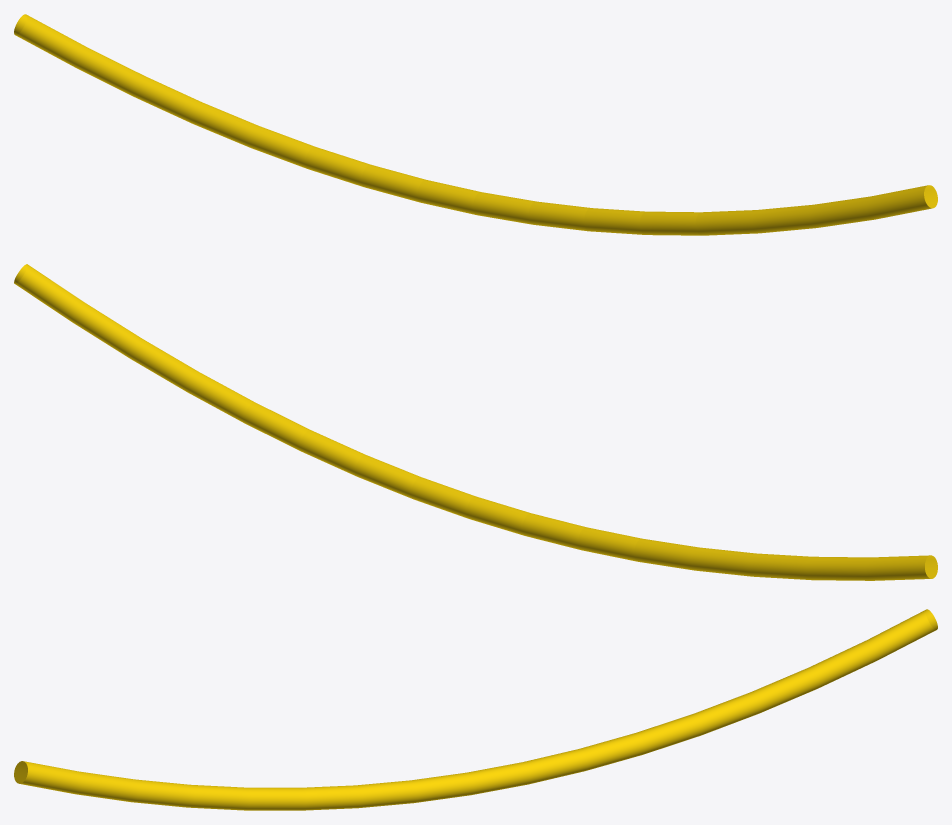
File: Event_421115418_track_204.fbx
The picture shows the model from 3 angles, top to bottom: view 1: azimuth 30°, elevation 25°; view 2: azimuth 210°, elevation 25°; view 3: azimuth 270°, elevation 25°; orthographic projection. The views are drawn at different scales.
Visible parts, largest first — view 1: Model; view 2: Model; view 3: Model.
Part boxes in pixels (<box>): Model: <box>14,14,937,235</box>; Model: <box>14,264,937,580</box>; Model: <box>14,609,937,810</box>.
Size of the model in its own units: 0.9042 by 0.2675 by 1.6.
